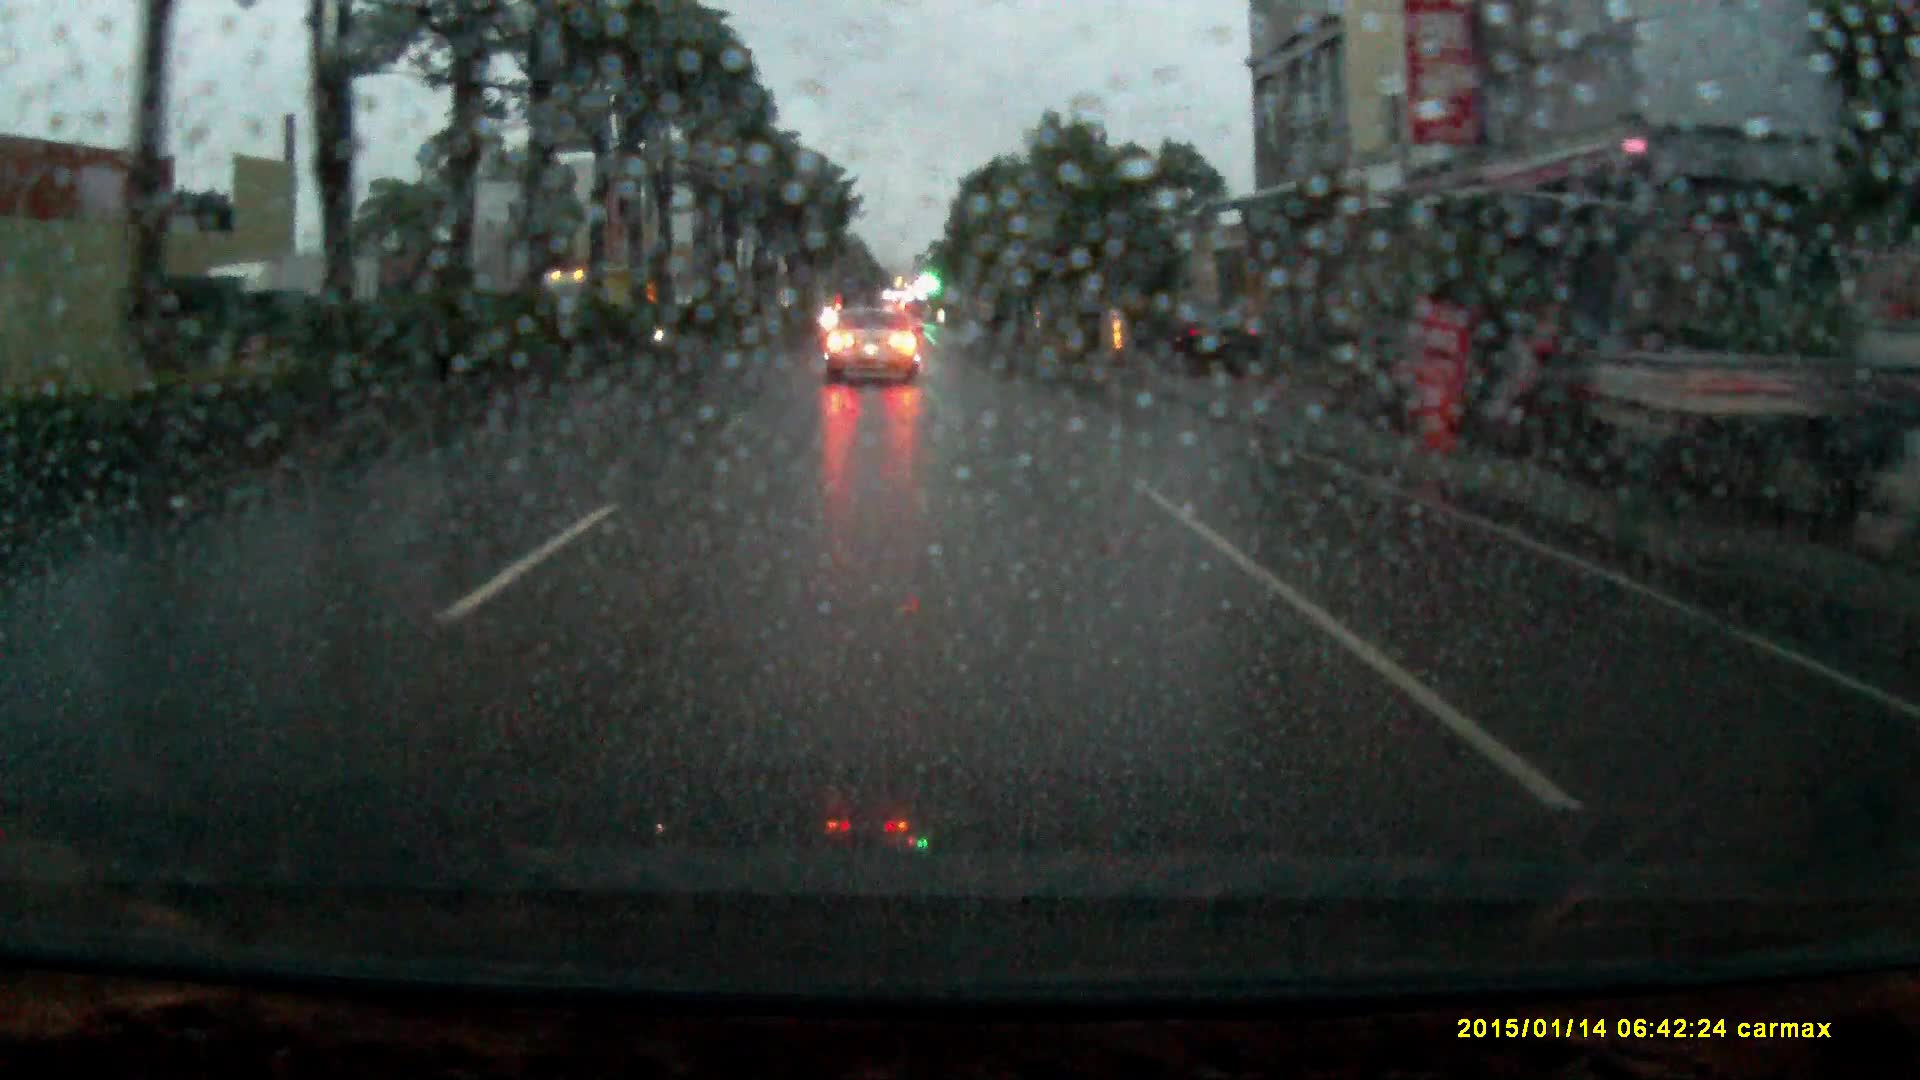vehicle: (185, 251, 384, 371), (824, 305, 924, 386), (1158, 303, 1261, 375), (533, 268, 638, 309)
